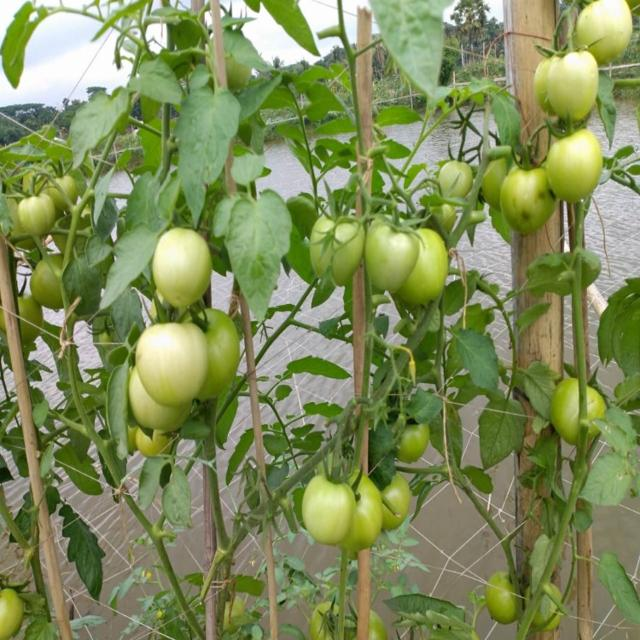tomato: (136, 319, 207, 407), (542, 124, 603, 206), (152, 233, 213, 307), (301, 471, 349, 546), (368, 219, 414, 296), (314, 216, 363, 288), (196, 309, 235, 399), (575, 1, 630, 62), (553, 54, 600, 121), (508, 162, 550, 230), (131, 376, 177, 438), (408, 228, 445, 302), (348, 472, 381, 549), (34, 249, 66, 308), (379, 474, 409, 532), (556, 376, 581, 440), (481, 160, 515, 207), (22, 195, 52, 244), (491, 573, 518, 626), (24, 289, 47, 348), (1, 588, 27, 640), (313, 593, 341, 640), (538, 55, 561, 111), (401, 425, 432, 464), (439, 154, 472, 190), (586, 387, 607, 424), (226, 592, 245, 624), (55, 175, 75, 205), (368, 608, 382, 640)
